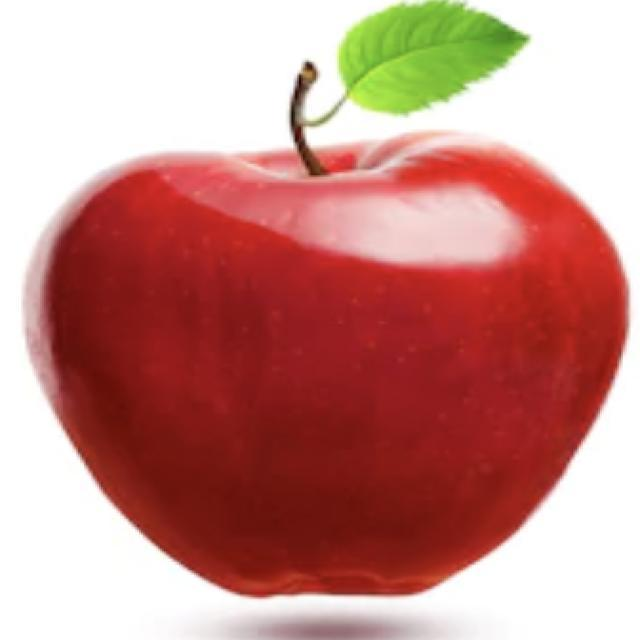Apple: (20, 58, 630, 600)
